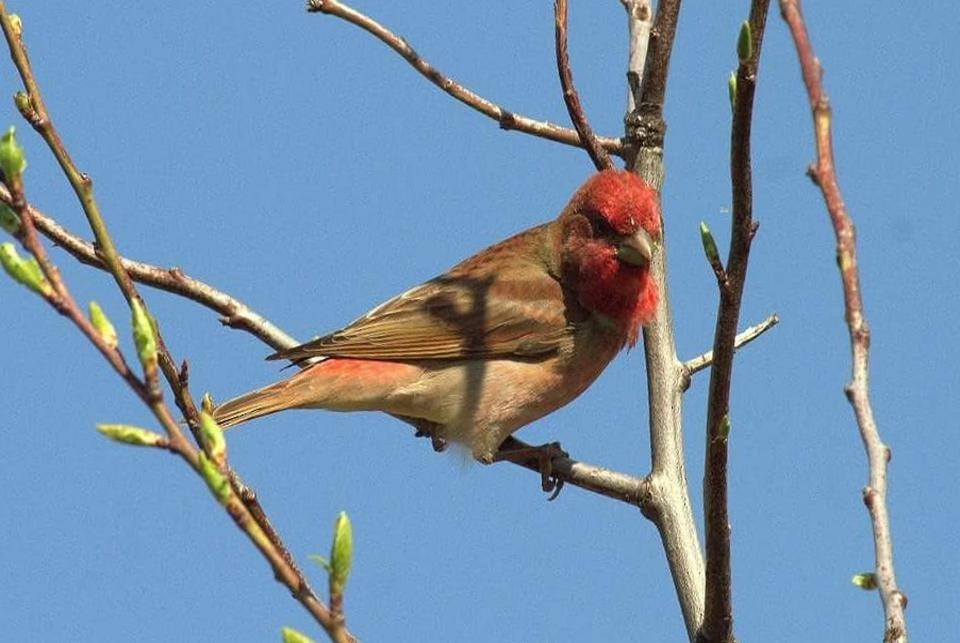rosefinch: (219, 152, 677, 497)
